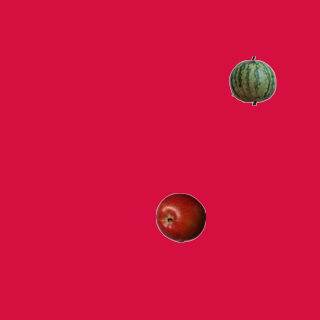Apple Braeburn: (155, 192, 205, 242)
Watermelon: (227, 55, 277, 105)
